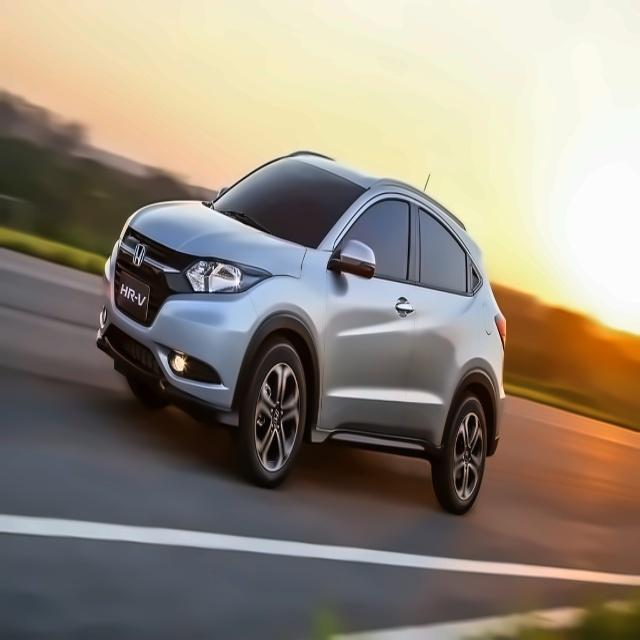Car hood: (124, 200, 307, 282)
Fender - -F-L-: (243, 245, 338, 357)
Fender - -R-L-: (432, 278, 517, 400)
Front bumper: (85, 239, 262, 429)
Headlight - -L-: (186, 256, 273, 297)
Passenger-s door - -F-L-: (308, 173, 421, 455)
Passenger-s door - -R-L-: (409, 174, 477, 465)
Side bumper - -L-: (309, 388, 448, 467)
Side mirror - -L-: (327, 240, 378, 279)
